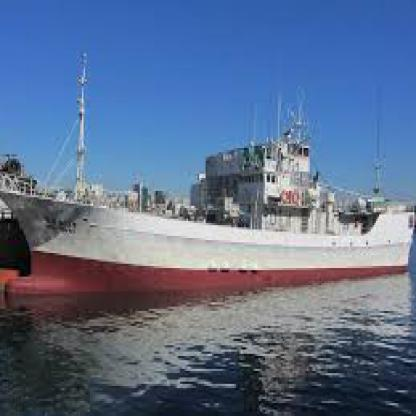fish-b: (0, 88, 415, 307)
